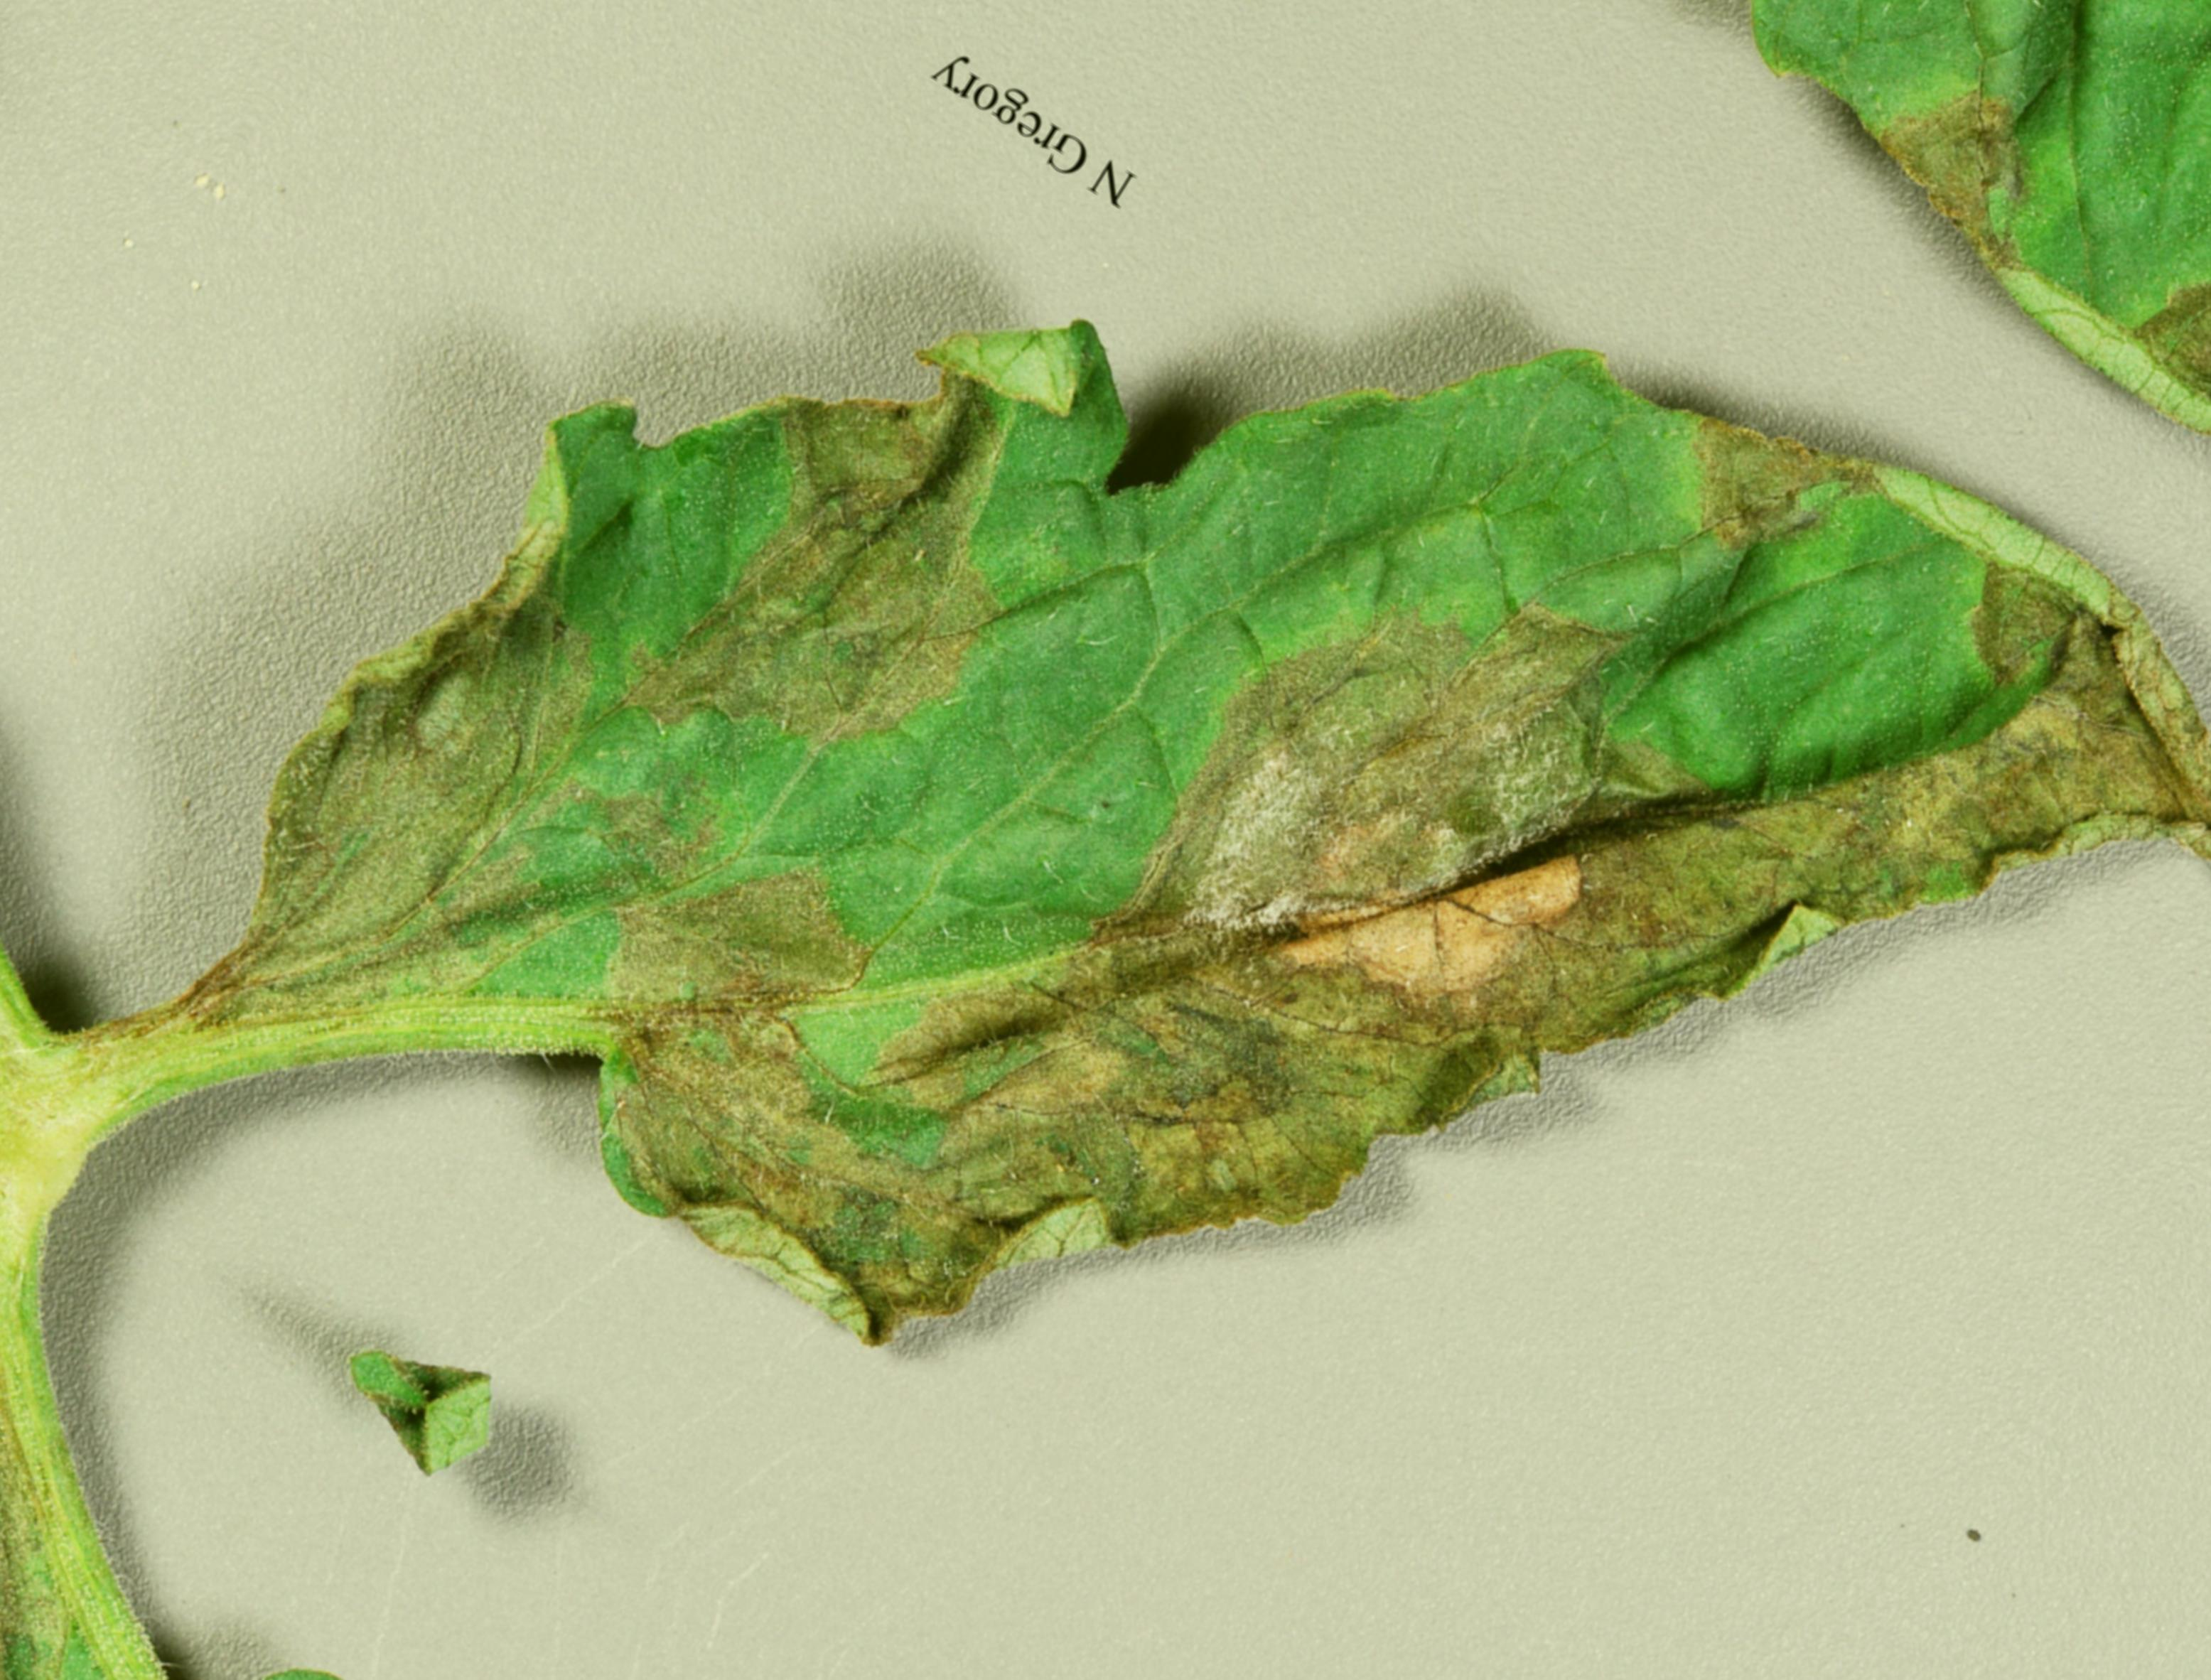Tomato leaf late blight: (129, 0, 2211, 1680)
